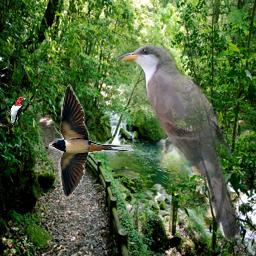Cuckoo: (116, 41, 245, 245)
Swallow: (49, 84, 134, 200)
Woodpecker: (5, 97, 27, 132)
